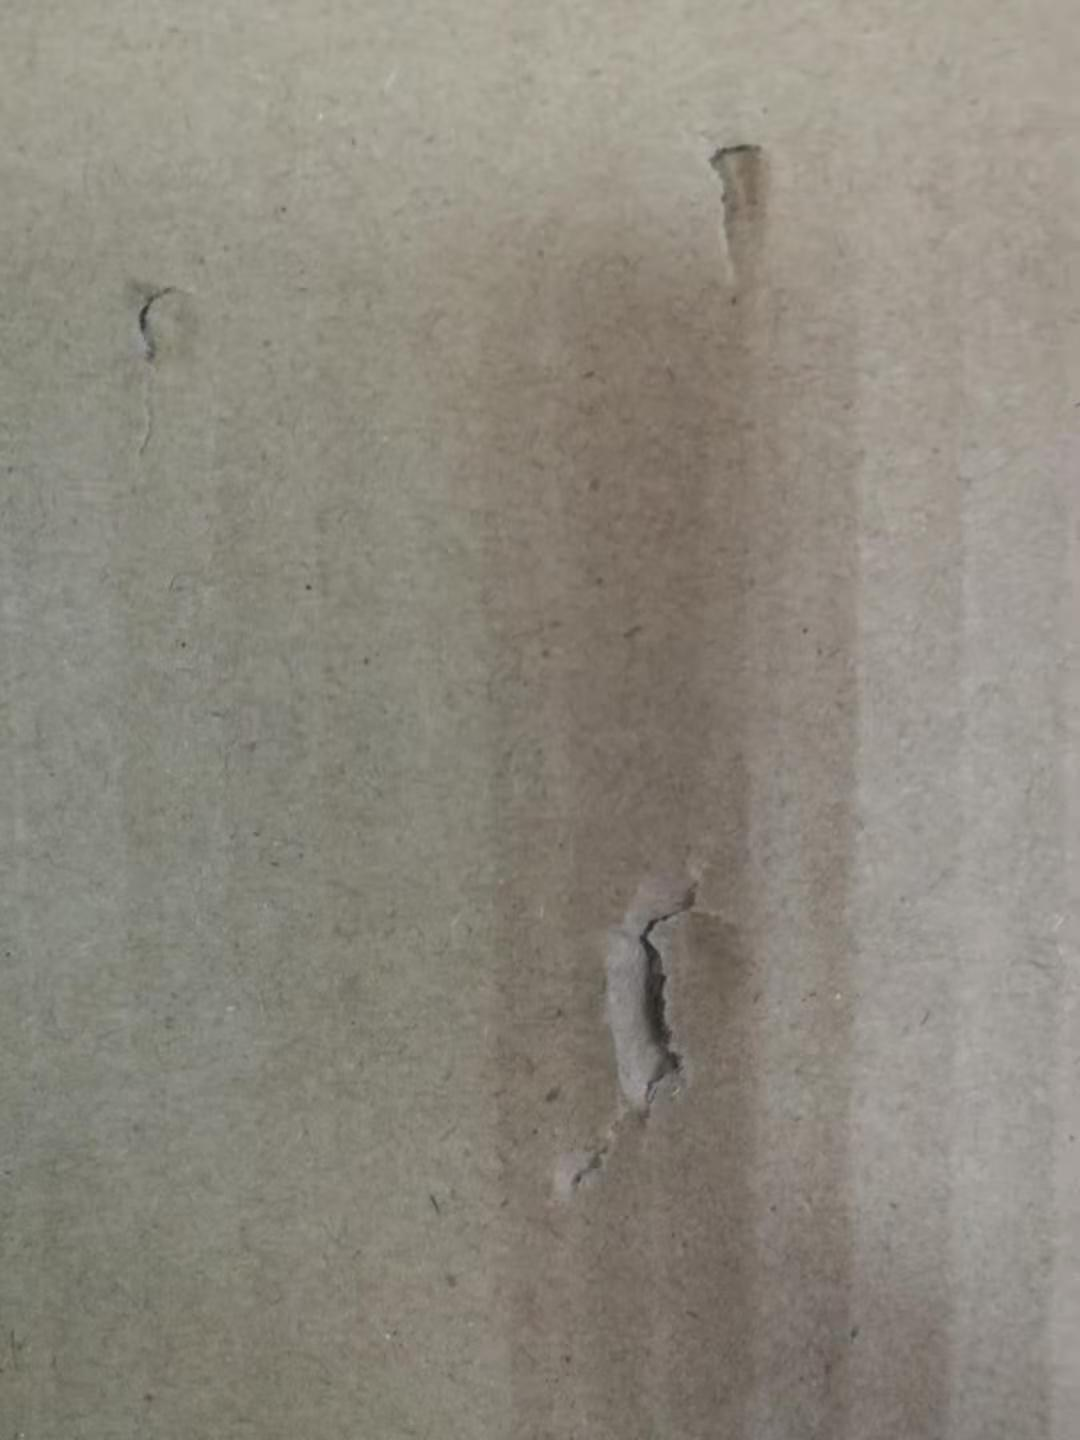defect: (520, 842, 771, 1225), (657, 110, 811, 325), (94, 255, 226, 461)
